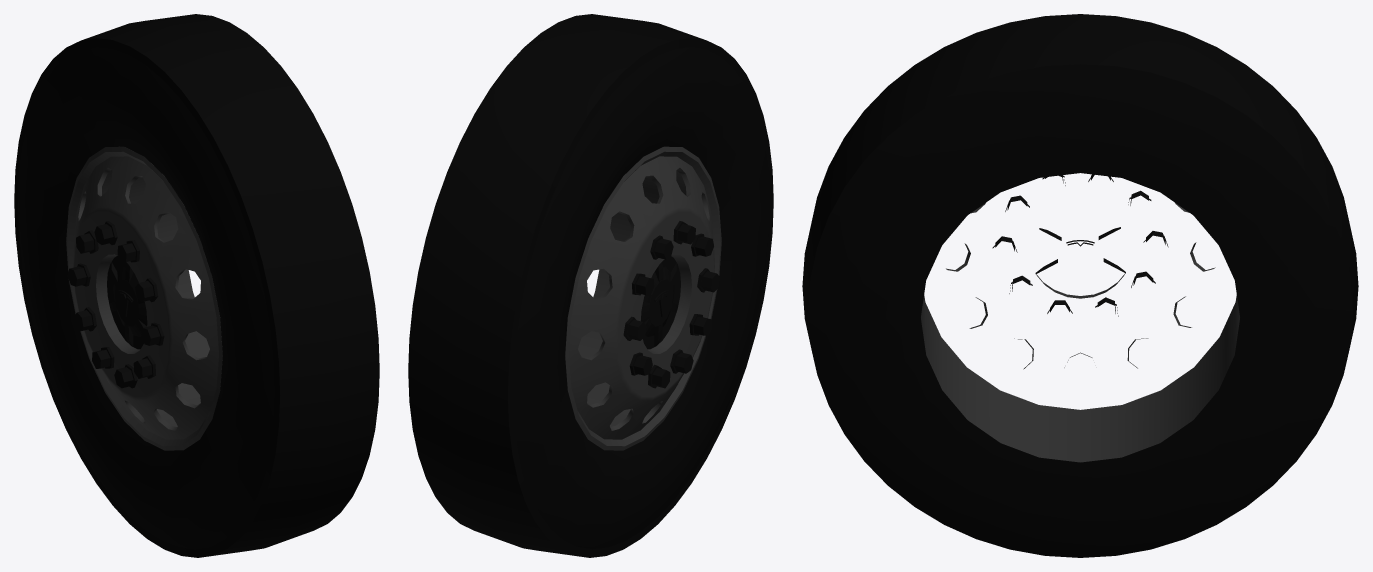
File: Wheel_F_Semi.glb
3 views of the same model, side by side, from view 1: azimuth 30°, elevation 25°; view 2: azimuth 150°, elevation 25°; view 3: azimuth 270°, elevation 25° (orthographic). The views are drawn at different scales.
Parts seen in each view (by area): view 1: Wheel_Semi_F; view 2: Wheel_Semi_F; view 3: Wheel_Semi_F.
Part boxes in pixels (x1,y1,x2,y2): Wheel_Semi_F: [14, 14, 379, 557]; Wheel_Semi_F: [408, 14, 773, 557]; Wheel_Semi_F: [802, 14, 1358, 557].
Size of the model in its own units: 0.3292 by 1.02 by 1.02.
2 materials, 1 textured.
